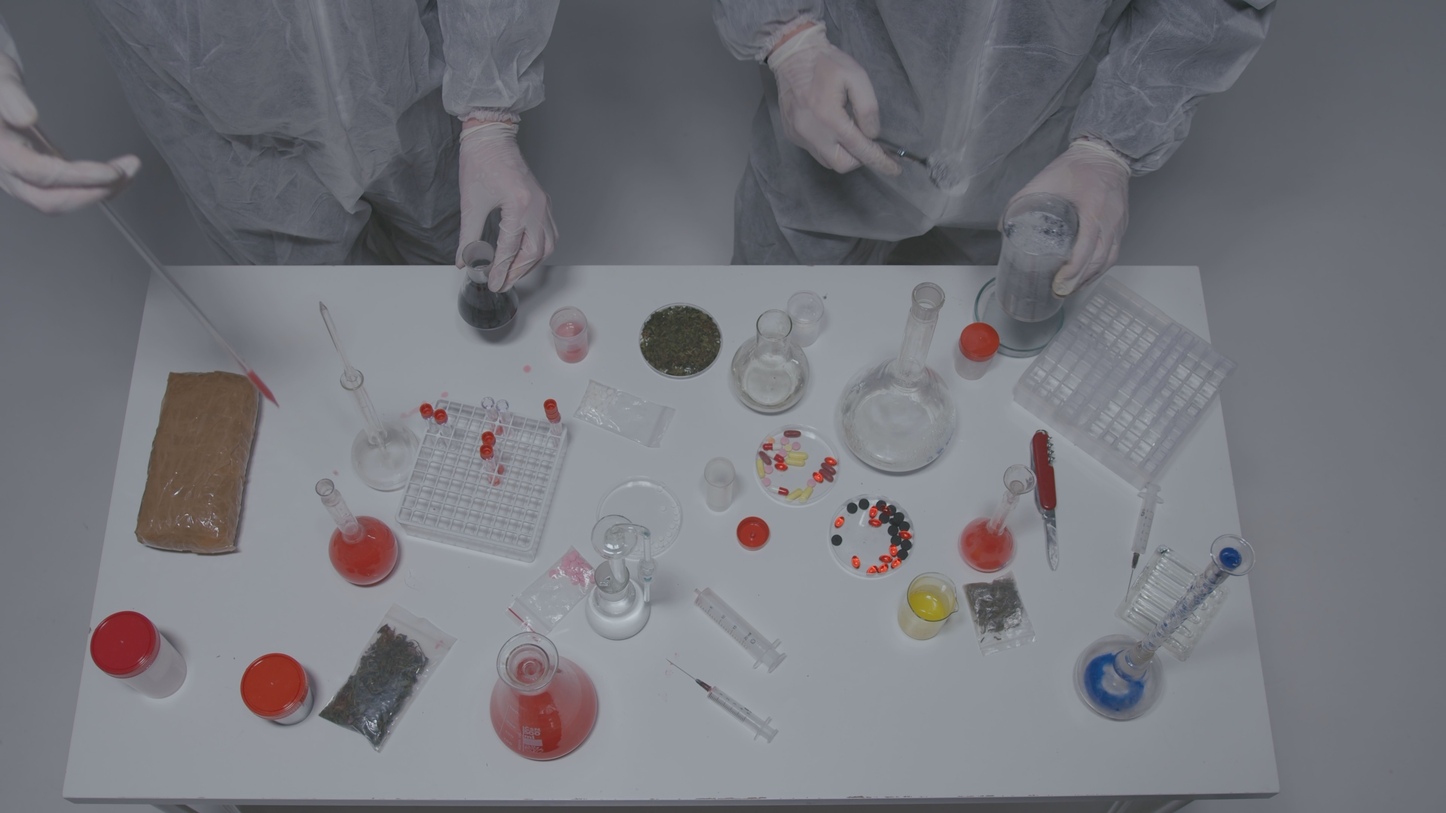gloves: (0, 25, 168, 232), (743, 15, 909, 191), (446, 112, 581, 317), (1003, 114, 1137, 304)
